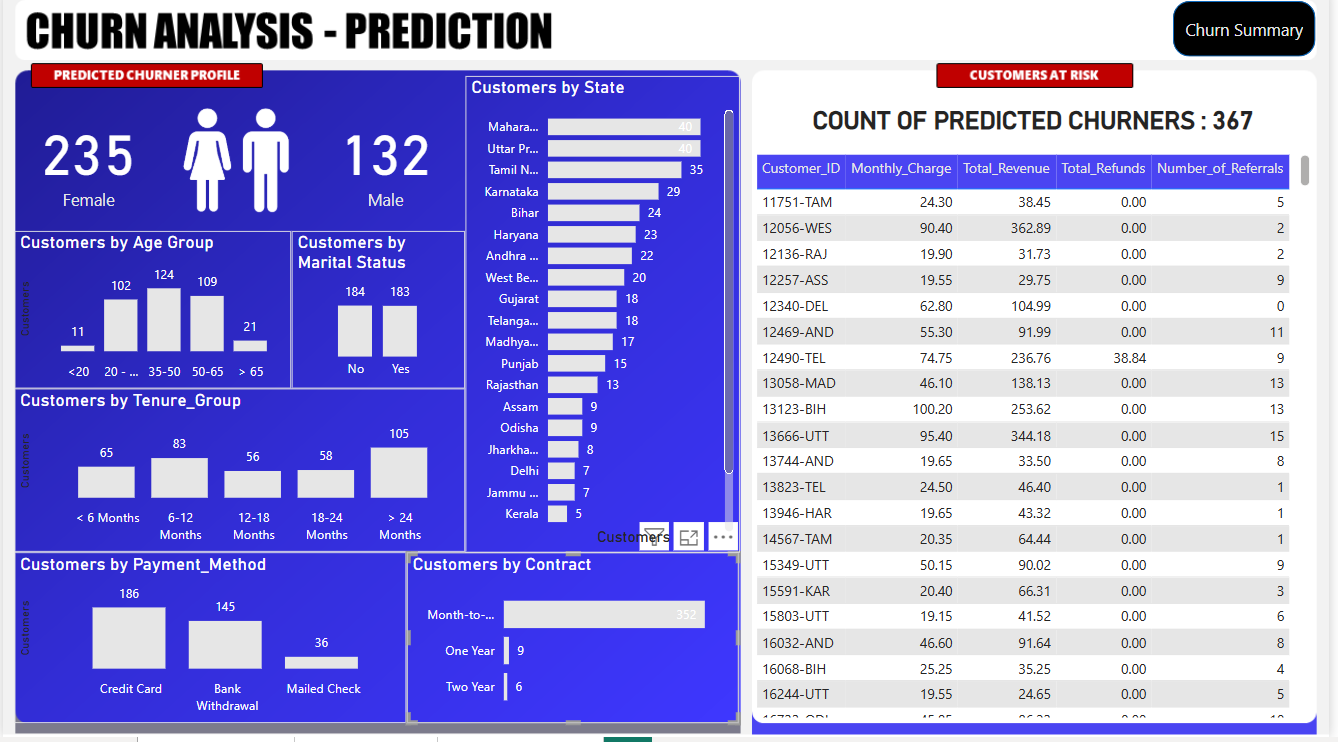

The page's visual inventory and layout, read from the dashboard file:
{"tool":"powerbi","page":{"name":"Churn Prediction","canvas":[1280,720],"ordinal":2},"visuals":[{"type":"tableEx","fields":{"Values":["Predictions.Customer_ID","Predictions.Monthly_Charge","Predictions.Total_Revenue","Predictions.Total_Refunds","Predictions.Number_of_Referrals"]},"box":[721.8,153.7,544.8,553],"z":0},{"type":"card","fields":{"Values":["Measure_Table.Title Predicted Churners"]},"box":[749.2,94.7,489.9,59],"z":1000},{"type":"card","fields":{"Values":["Measure_Table.Count Predicted Churner"]},"box":[11,94.7,144.1,137.2],"z":2000},{"type":"card","fields":{"Values":["Measure_Table.Count Predicted Churner"]},"box":[293.7,94.7,152.3,137.2],"z":3000},{"type":"clusteredColumnChart","fields":{"Category":["mapping_AgeGrp.Age Group"],"Y":["CountNonNull(Predictions.Customer_ID)"]},"box":[11,231.9,267.6,152.3],"z":4000},{"type":"clusteredColumnChart","fields":{"Y":["CountNonNull(Predictions.Customer_ID)"],"Category":["Predictions.Married"]},"box":[278.6,231.9,167.4,152.3],"z":5000},{"type":"clusteredColumnChart","fields":{"Y":["CountNonNull(Predictions.Customer_ID)"],"Category":["mapping_TenureGrp.Tenure_Group"]},"box":[11,384.2,435,157.8],"z":6000},{"type":"clusteredColumnChart","fields":{"Y":["CountNonNull(Predictions.Customer_ID)"],"Category":["Predictions.Payment_Method"]},"box":[11,542,378.7,164.7],"z":7000},{"type":"barChart","fields":{"Category":["Predictions.Contract"],"Y":["CountNonNull(Predictions.Customer_ID)"]},"box":[389.7,542,321.1,164.7],"z":8000},{"type":"barChart","fields":{"Category":["Predictions.State"],"Y":["CountNonNull(Predictions.Customer_ID)"]},"box":[446,82.3,264.8,459.7],"z":9000},{"type":"image","box":[155.1,94.7,138.6,137.2],"z":10000},{"type":"shape","title":"Churn Summary","box":[1129.3,9.6,137.2,53.5],"z":11000}]}

Visuals, with their boxes in screenshot pixels (x1, y1, x2, y2), scaled from the page's 1280x720 canvas onto the 1338x742 screenshot:
tableEx - Predictions.Customer_ID x Predictions.Monthly_Charge: left=755, top=158, right=1324, bottom=728
card - Measure_Table.Title Predicted Churners: left=783, top=98, right=1295, bottom=158
card - Measure_Table.Count Predicted Churner: left=11, top=98, right=162, bottom=239
card - Measure_Table.Count Predicted Churner: left=307, top=98, right=466, bottom=239
clusteredColumnChart - mapping_AgeGrp.Age Group x CountNonNull(Predictions.Customer_ID): left=11, top=239, right=291, bottom=396
clusteredColumnChart - CountNonNull(Predictions.Customer_ID) x Predictions.Married: left=291, top=239, right=466, bottom=396
clusteredColumnChart - CountNonNull(Predictions.Customer_ID) x mapping_TenureGrp.Tenure_Group: left=11, top=396, right=466, bottom=559
clusteredColumnChart - CountNonNull(Predictions.Customer_ID) x Predictions.Payment_Method: left=11, top=559, right=407, bottom=728
barChart - Predictions.Contract x CountNonNull(Predictions.Customer_ID): left=407, top=559, right=743, bottom=728
barChart - Predictions.State x CountNonNull(Predictions.Customer_ID): left=466, top=85, right=743, bottom=559
image: left=162, top=98, right=307, bottom=239
"Churn Summary" shape: left=1180, top=10, right=1324, bottom=65
